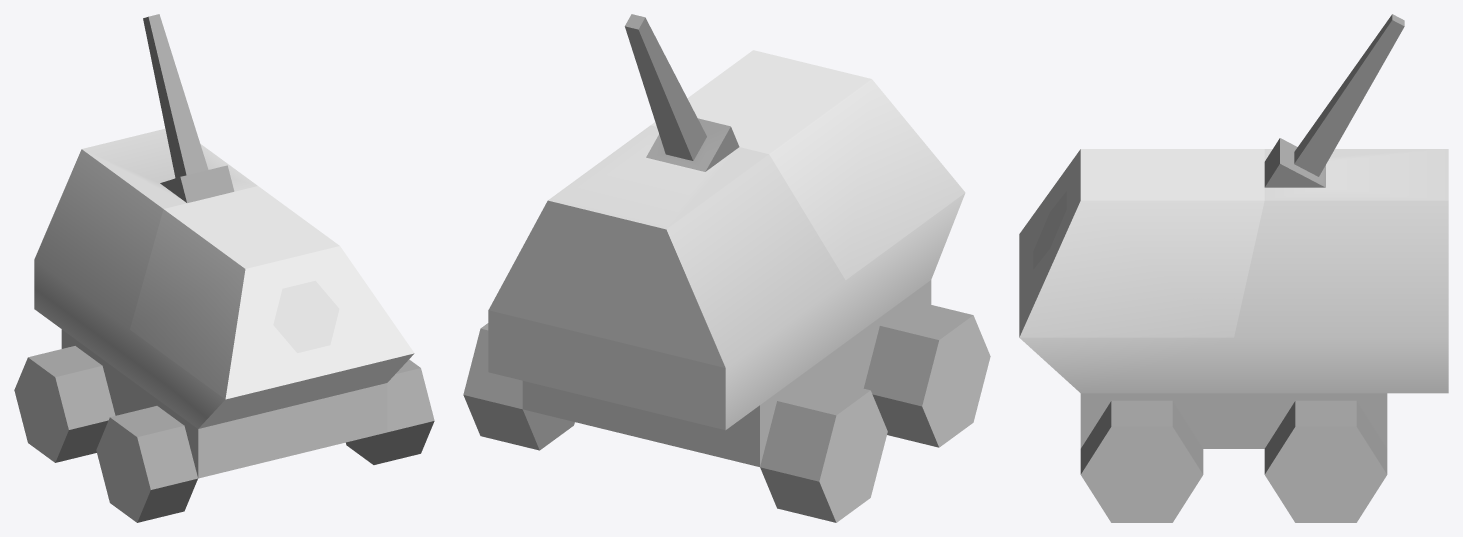
File: hub_lifter.glb
The picture shows the model from 3 angles, left to right: view 1: azimuth 30°, elevation 25°; view 2: azimuth 150°, elevation 25°; view 3: azimuth 270°, elevation 25°; orthographic projection. The views are drawn at different scales.
Visible parts, largest first — view 1: Body; view 2: Body; view 3: Body.
Part boxes in pixels (<box>): Body: <box>14,14,434,522</box>; Body: <box>463,14,990,522</box>; Body: <box>1019,14,1448,522</box>.
Bounding box in the file's own units: 4.29 × 5.5 × 5.
2 materials, 1 textured.
